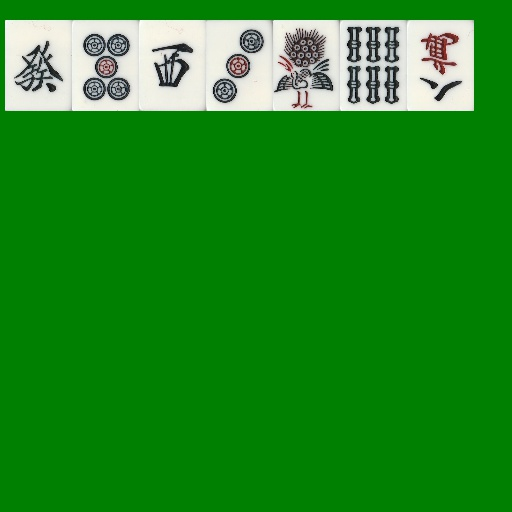1s: (273, 20, 340, 111)
3p: (206, 20, 273, 111)
5p: (72, 20, 139, 111)
6s: (340, 20, 407, 111)
8m: (407, 20, 474, 111)
hatsu: (5, 20, 72, 111)
west: (139, 20, 206, 111)
